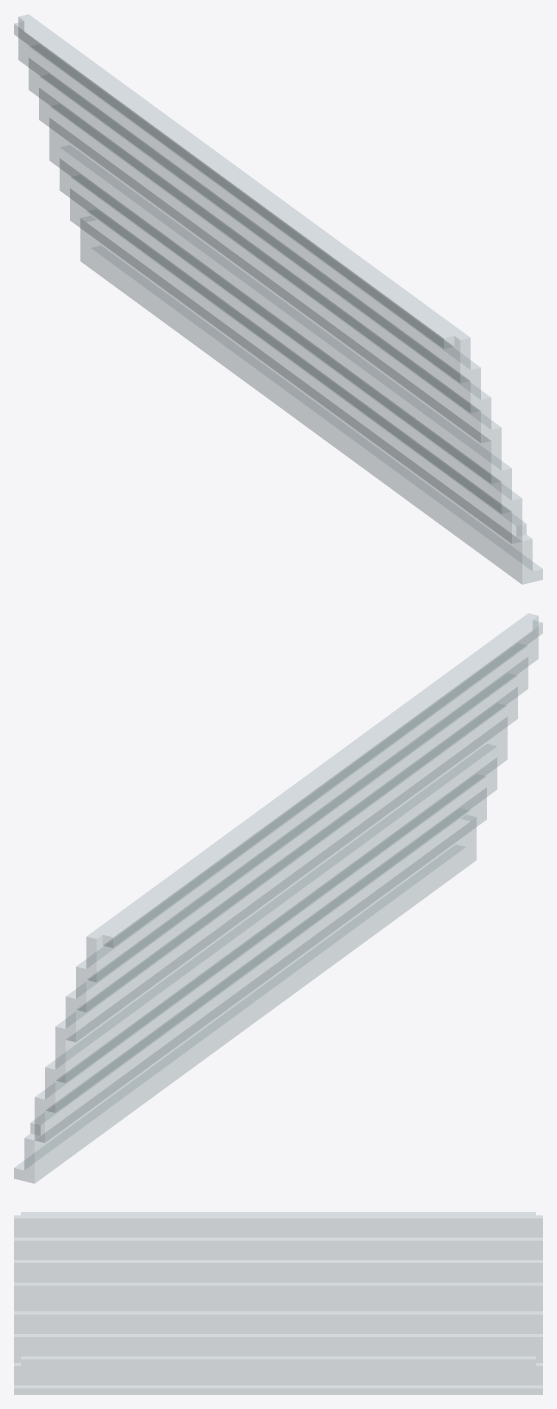
Rendered from bucket_truck_windscreen.glb.
3 renders of one model, top to bottom at view 1: azimuth 30°, elevation 25°; view 2: azimuth 150°, elevation 25°; view 3: azimuth 270°, elevation 25°, orthographic. The views are drawn at different scales.
Parts seen in each view (by area): view 1: body:compound; view 2: body:compound; view 3: body:compound.
Boxes of the visible parts, x1,y1,x2,y2 form: body:compound: (14, 14, 542, 584); body:compound: (14, 613, 542, 1183); body:compound: (14, 1212, 542, 1394).
Size of the model in its own units: 0.2812 by 0.75 by 2.31.
